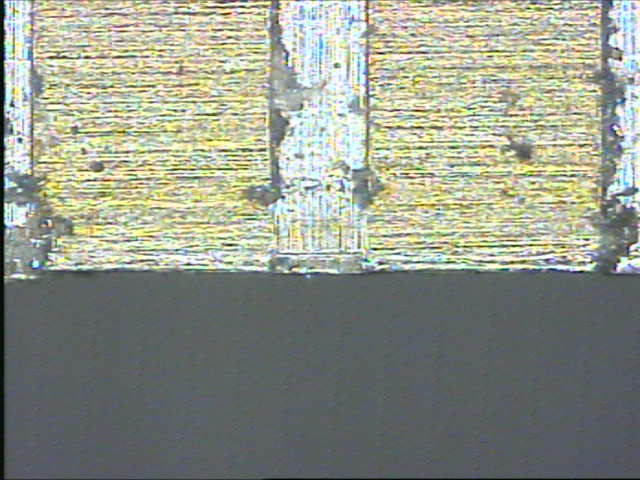line: (266, 1, 370, 268)
